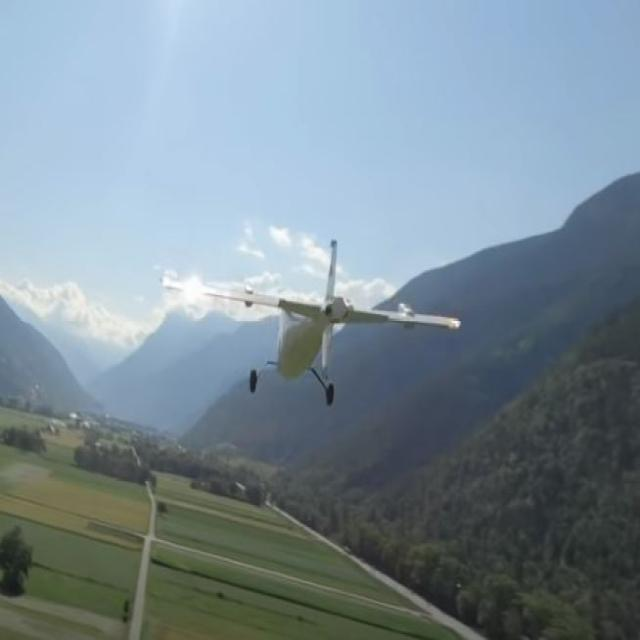iha: (162, 237, 462, 408)
